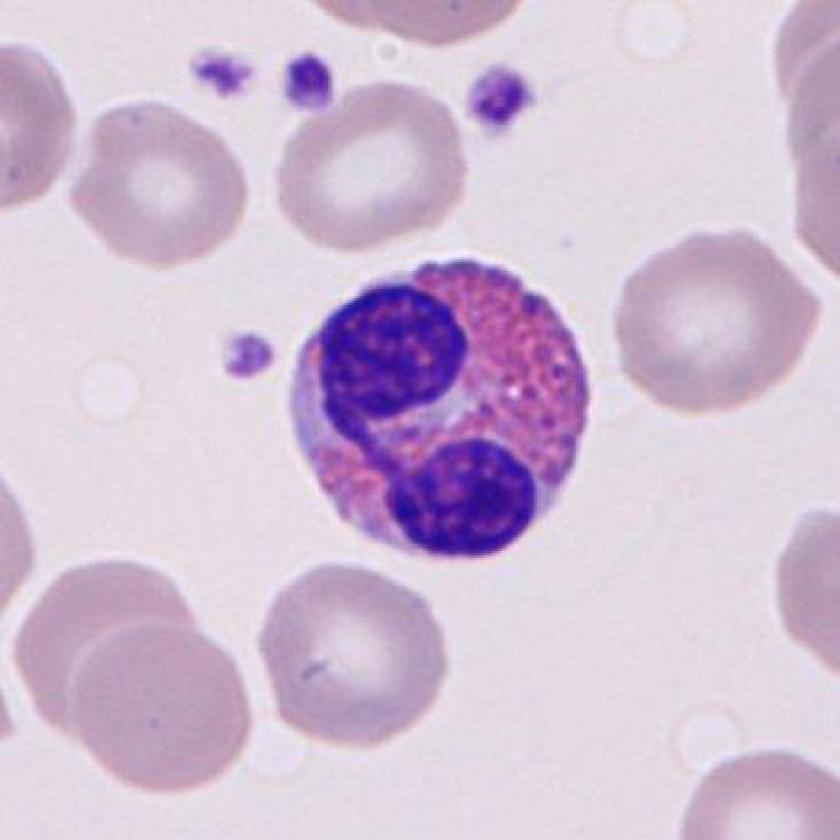eosinophil: (270, 247, 603, 577)
